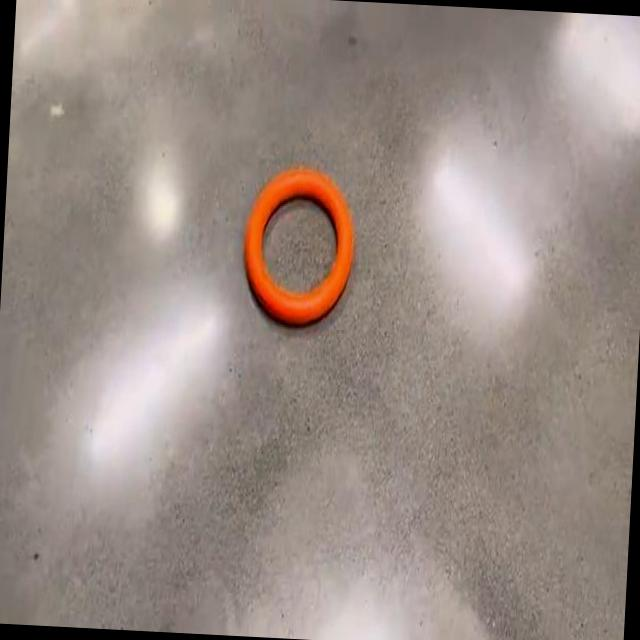note: (245, 169, 353, 323)
